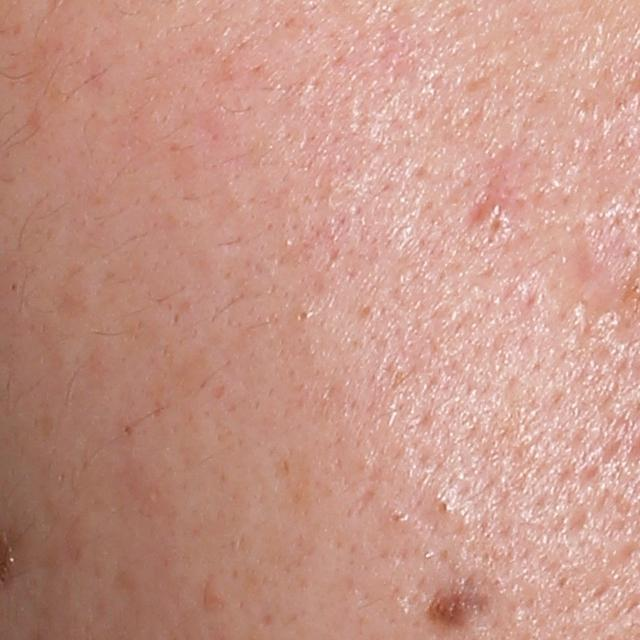comedo: (429, 494, 454, 521), (384, 507, 410, 531)
nevus: (422, 585, 496, 639)
